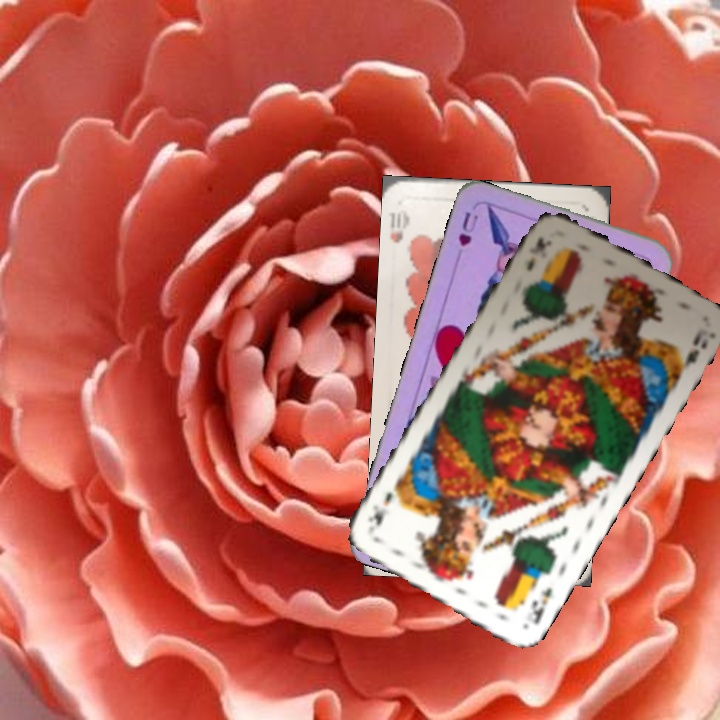EK: (522, 233, 555, 274), (527, 582, 555, 628)
H10: (386, 205, 413, 246)
HU: (454, 208, 481, 249)
